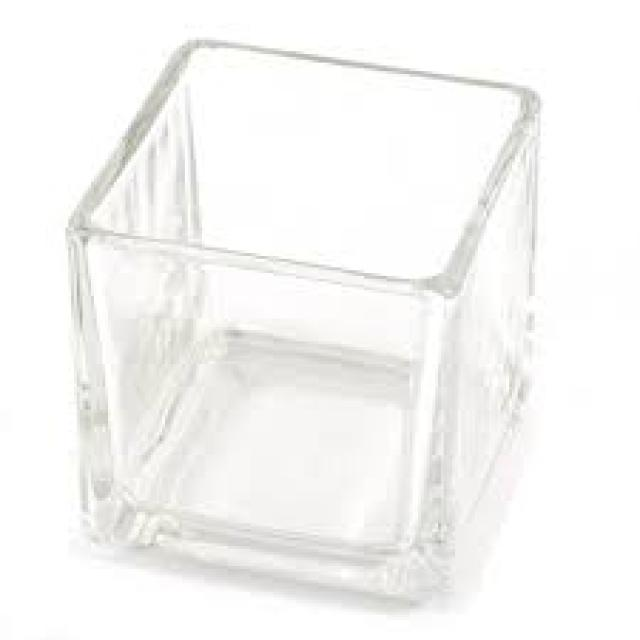glass: (63, 34, 538, 600)
